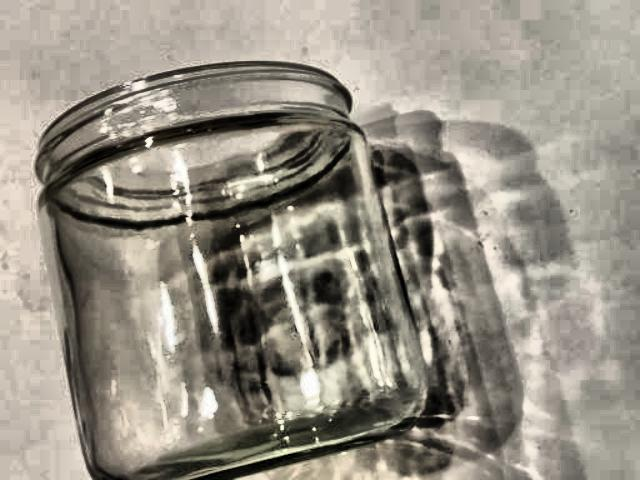Almennt: (23, 48, 445, 480)
